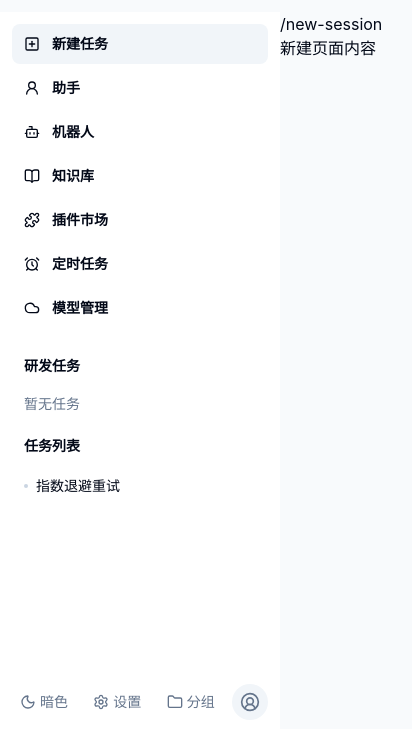
Test: WorkspaceLayout › navigates to the selected session URL and highlights it
Click the button with aria-label "打开会话 指数退避重试" at (124, 486), box [24,476,224,496]
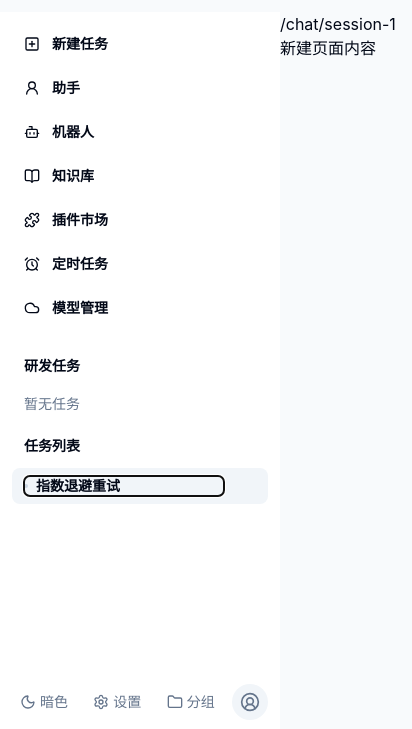
Expected: the text with test id "location-path" reads "/chat/session-1", [280,14,396,34]
